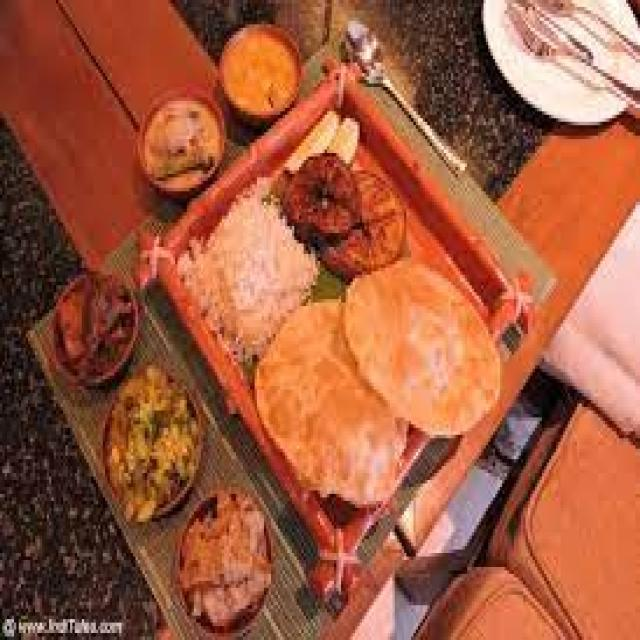pickle: (255, 141, 404, 279)
roti: (327, 251, 493, 455)
sweet: (36, 266, 141, 408)
